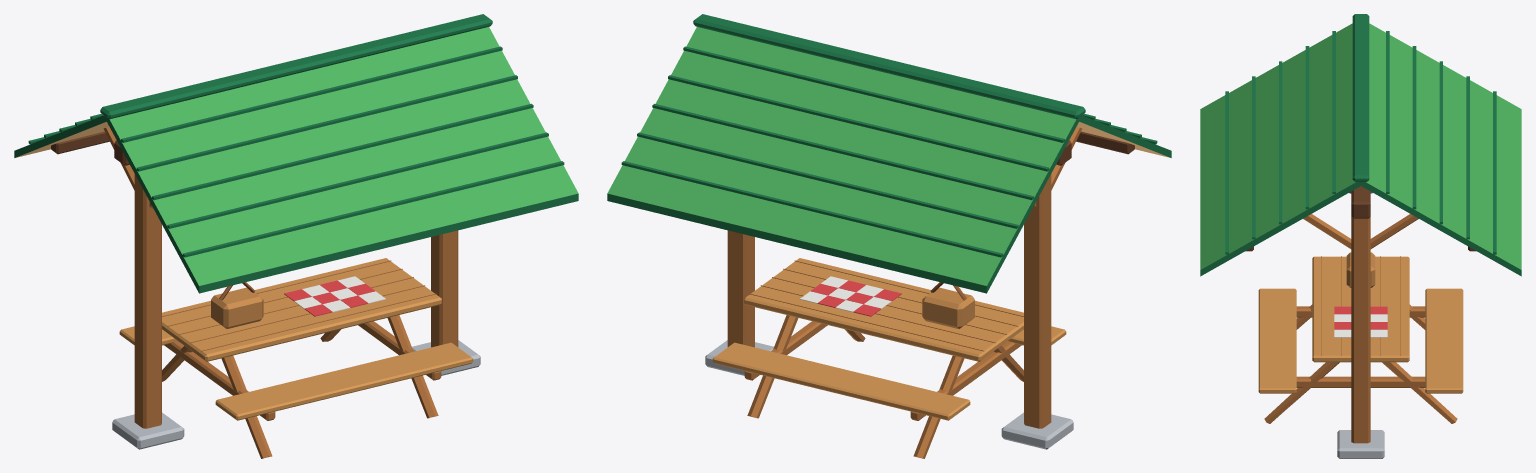
Rendered from mesa_piquenique_coberta.glb.
The picture shows the model from 3 angles, left to right: view 1: azimuth 30°, elevation 25°; view 2: azimuth 150°, elevation 25°; view 3: azimuth 270°, elevation 25°; orthographic projection. The views are drawn at different scales.
Parts seen in each view (by area): view 1: mesa_piquenique_coberta; view 2: mesa_piquenique_coberta; view 3: mesa_piquenique_coberta.
Boxes of the visible parts, x1,y1,x2,y2 form: mesa_piquenique_coberta: (14,14,578,458); mesa_piquenique_coberta: (607,14,1171,458); mesa_piquenique_coberta: (1200,14,1521,458).
Size of the model in its own units: 3.25 by 2.71 by 2.7.
2 materials, 1 textured.
